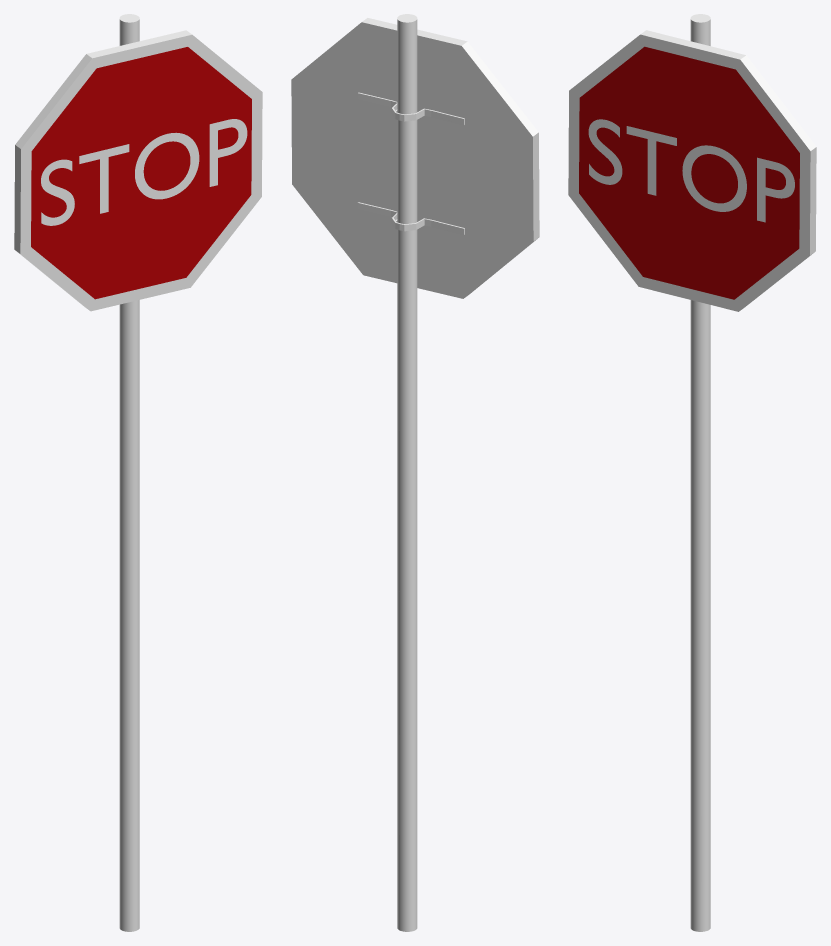
The model's file is Stopsign.fbx.
3 views of the same model, side by side, from view 1: azimuth 30°, elevation 25°; view 2: azimuth 150°, elevation 25°; view 3: azimuth 330°, elevation 25° (orthographic).
Visible parts, largest first — view 1: NGon001; view 2: NGon001; view 3: NGon001.
Part boxes in pixels (x1,y1,x2,y2): NGon001: [14, 14, 262, 931]; NGon001: [291, 14, 539, 931]; NGon001: [568, 14, 816, 931].
Bounding box in the file's own units: 82.5 × 296 × 11.24.
